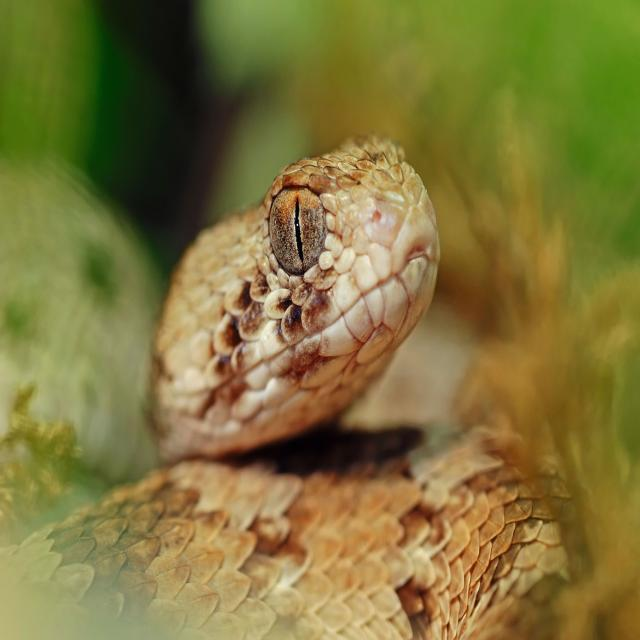Snake: (105, 126, 573, 640)
